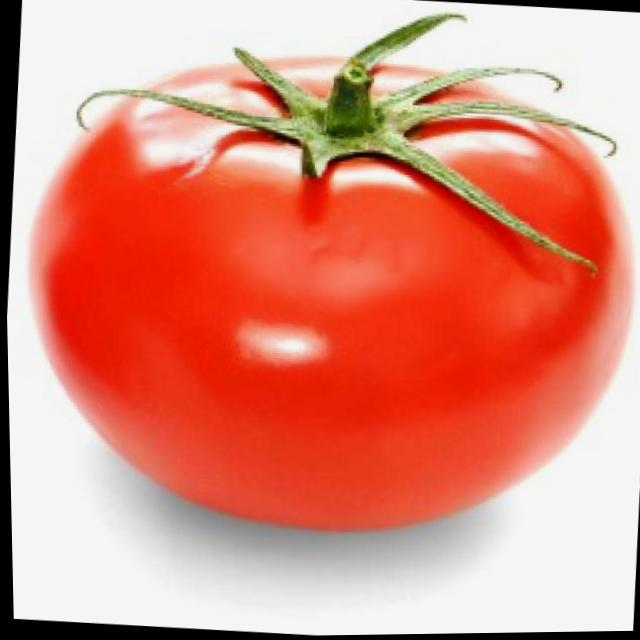tomato: (9, 22, 640, 558)
